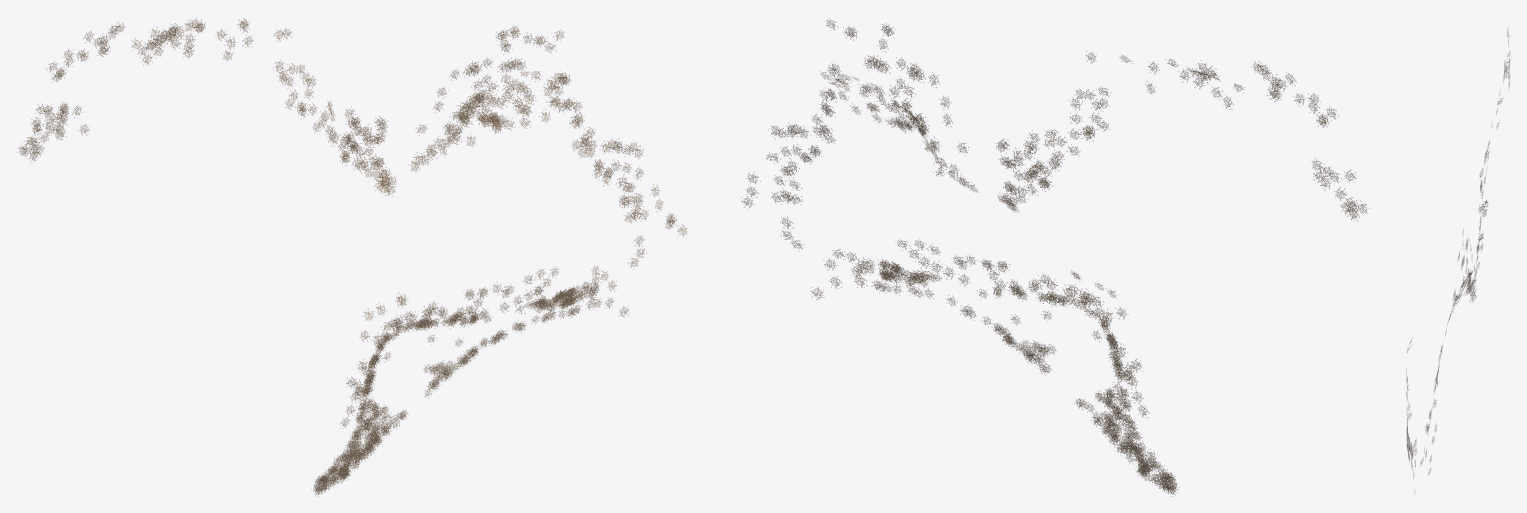
File: lisce_javor.glb
3 views of the same model, side by side, from view 1: azimuth 30°, elevation 25°; view 2: azimuth 150°, elevation 25°; view 3: azimuth 270°, elevation 25° (orthographic). The views are drawn at different scales.
Visible parts, largest first — view 1: Background_Tree_Atlas.012_Fallen_Maple_Leaves_0; view 2: Background_Tree_Atlas.012_Fallen_Maple_Leaves_0; view 3: Background_Tree_Atlas.012_Fallen_Maple_Leaves_0.
Boxes of the visible parts, box(x1,y1,x2,y2) form: Background_Tree_Atlas.012_Fallen_Maple_Leaves_0: box(17, 18, 687, 496); Background_Tree_Atlas.012_Fallen_Maple_Leaves_0: box(741, 18, 1369, 496); Background_Tree_Atlas.012_Fallen_Maple_Leaves_0: box(1406, 30, 1510, 477).
Size of the model in its own units: 232 by 165 by 42.44.
Materials: 1 (1 with a texture image).
